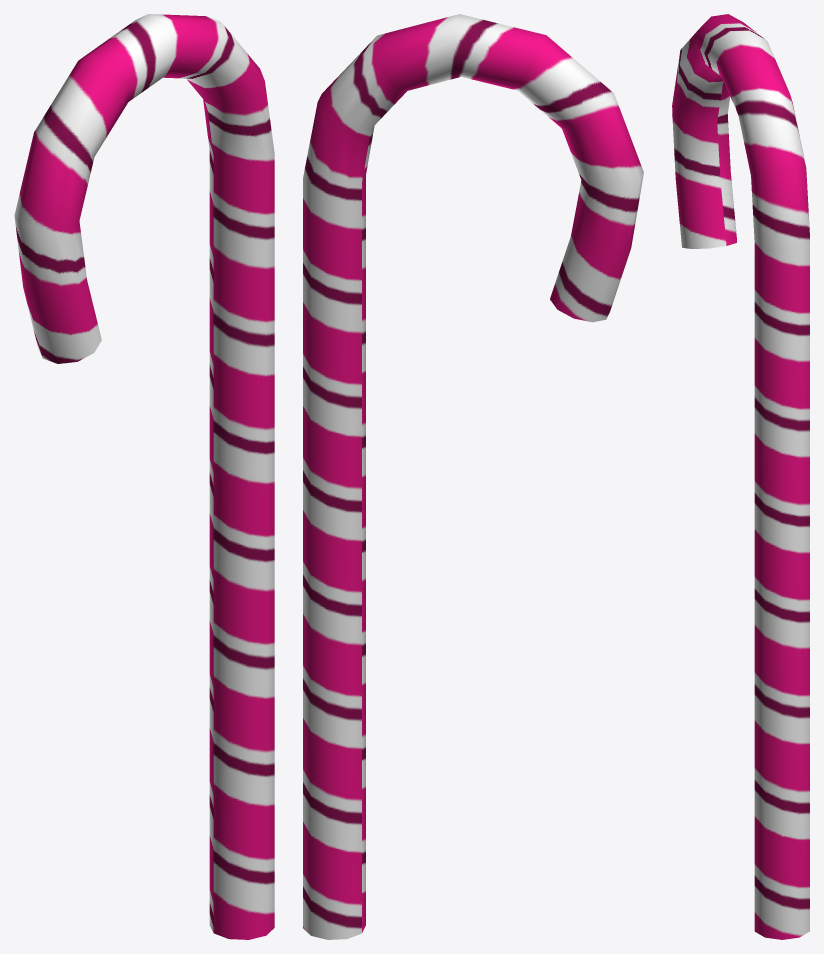
The model's file is candycane pink strippes.fbx.
The picture shows the model from 3 angles, left to right: view 1: azimuth 30°, elevation 25°; view 2: azimuth 150°, elevation 25°; view 3: azimuth 270°, elevation 25°; orthographic projection. The views are drawn at different scales.
Parts seen in each view (by area): view 1: candycane_pink_strippes; view 2: candycane_pink_strippes; view 3: candycane_pink_strippes.
Part boxes in pixels (x1,y1,x2,y2): candycane_pink_strippes: (14, 14, 274, 939); candycane_pink_strippes: (303, 14, 643, 939); candycane_pink_strippes: (672, 14, 809, 939).
Size of the model in its own units: 4.96 by 15.13 by 2.23.
1 material, 1 textured.
